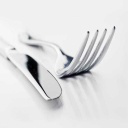fork: (14, 21, 117, 83)
